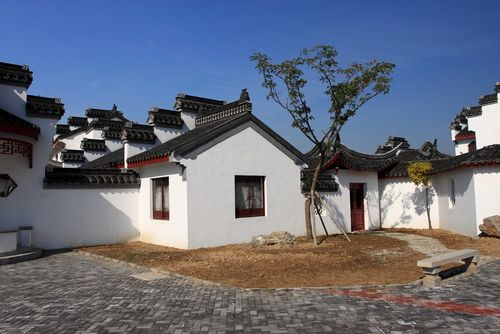buildings: (70, 95, 360, 242)
